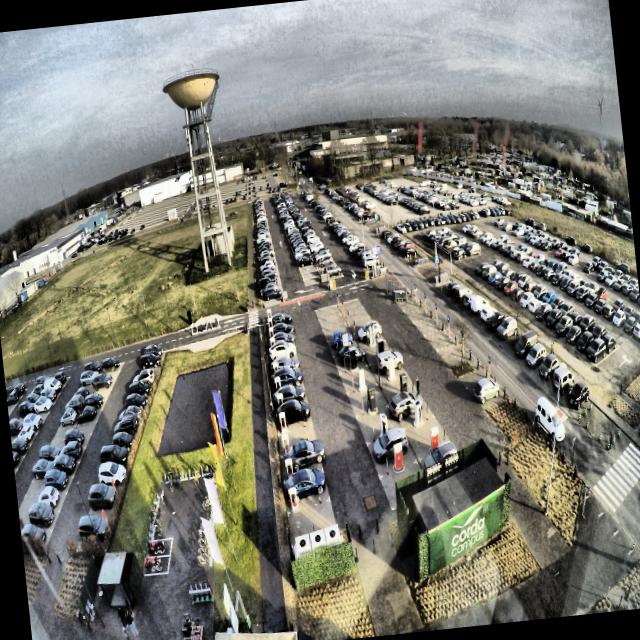cabinet: (294, 526, 341, 553)
car: (283, 463, 327, 503), (282, 437, 325, 472), (275, 398, 311, 430), (270, 365, 305, 389), (272, 383, 306, 407), (268, 355, 300, 375), (268, 339, 297, 359), (268, 321, 295, 339), (269, 331, 295, 346), (271, 312, 292, 328)
parking: (283, 469, 329, 511), (288, 501, 336, 541), (280, 444, 322, 480), (277, 425, 316, 456), (274, 406, 311, 434), (272, 386, 307, 412), (271, 371, 303, 394), (270, 357, 300, 377), (268, 345, 297, 363), (267, 336, 294, 352), (266, 326, 292, 341), (265, 316, 290, 331)
supercharger: (288, 487, 298, 510), (280, 432, 290, 455), (285, 458, 294, 481), (278, 411, 287, 432), (274, 375, 281, 393), (276, 393, 283, 409), (272, 361, 279, 376), (271, 349, 277, 362), (269, 338, 275, 349), (267, 316, 272, 328), (268, 327, 273, 337), (266, 308, 271, 318)
